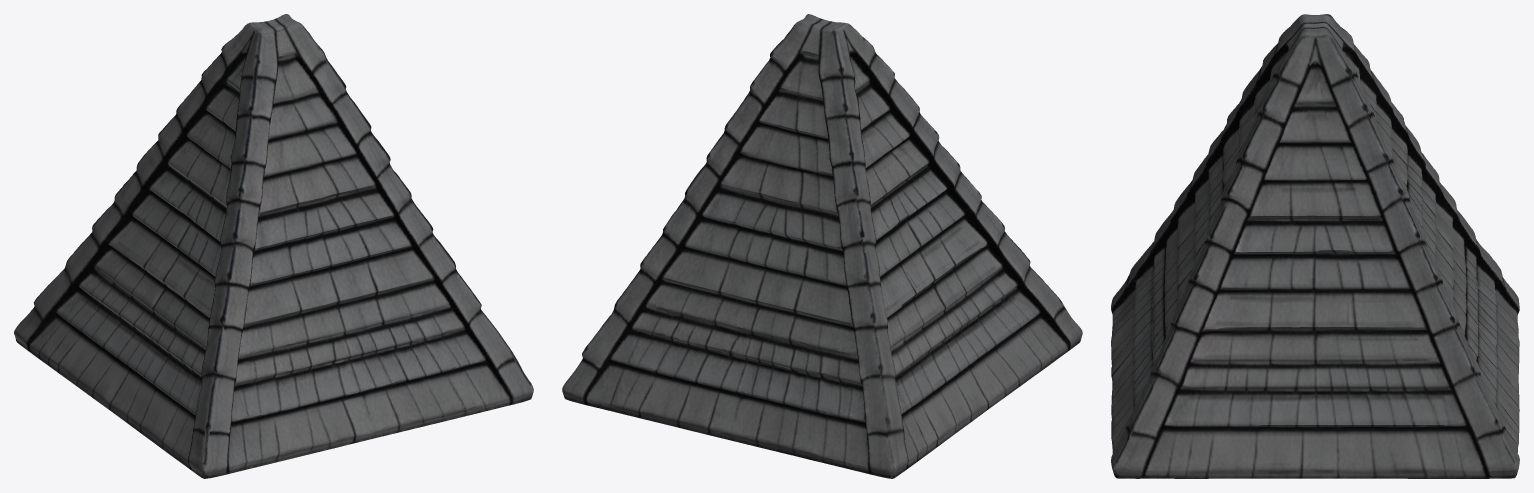
File: roof-hip.glb
3 views of the same model, side by side, from view 1: azimuth 30°, elevation 25°; view 2: azimuth 150°, elevation 25°; view 3: azimuth 270°, elevation 25° (orthographic). The views are drawn at different scales.
Parts seen in each view (by area): view 1: tmppwx4tlr8.ply; view 2: tmppwx4tlr8.ply; view 3: tmppwx4tlr8.ply.
Part boxes in pixels (left/top/right/bottom): tmppwx4tlr8.ply: left=14, top=14, right=533, bottom=478; tmppwx4tlr8.ply: left=562, top=14, right=1082, bottom=478; tmppwx4tlr8.ply: left=1111, top=14, right=1519, bottom=478.
Bounding box in the file's own units: 1 × 1 × 1.
Materials: 1 (1 with a texture image).
